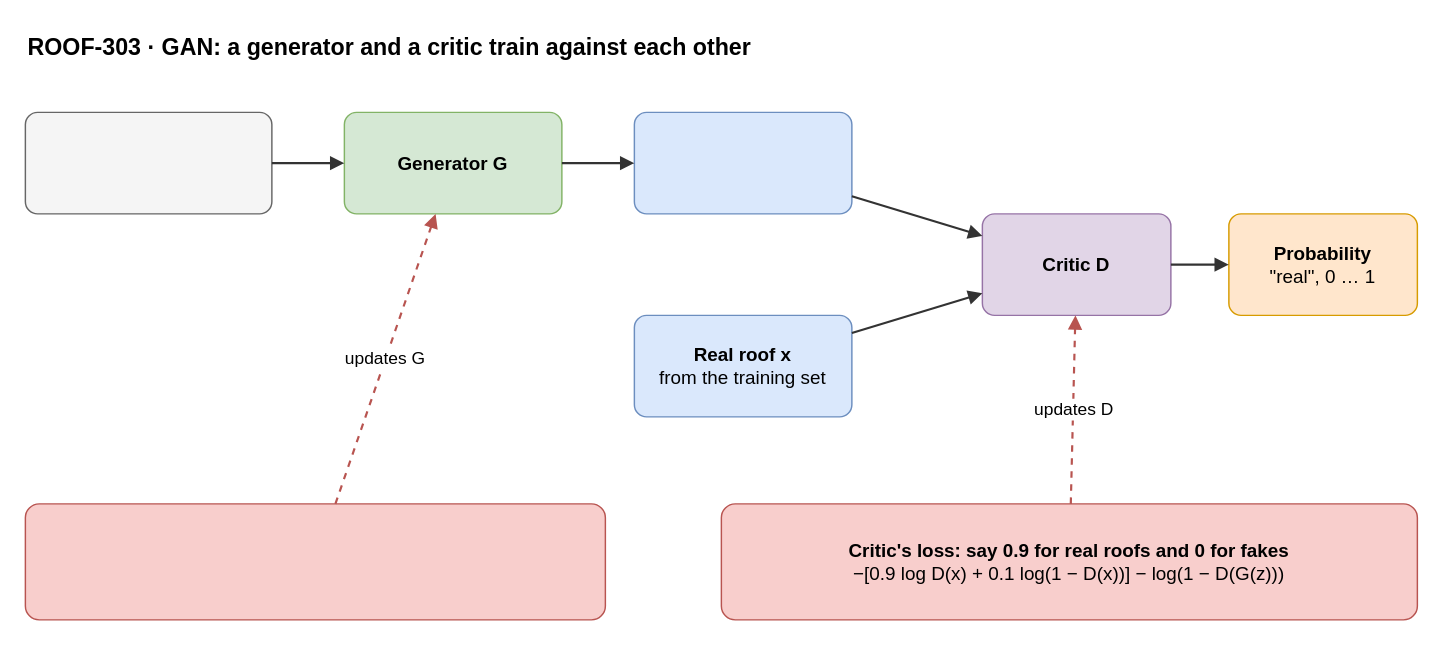
The diagram is 1443 pixels wide and 645 high, and some of its shapes have lost their labels. Each missing label, with the centre of its shape:
Fake roof G(z): the point at 742,162
Generator's loss: make the critic say 1 −log D(G(z)): the point at 314,561
Noise z 100 random numbers: the point at 148,162
